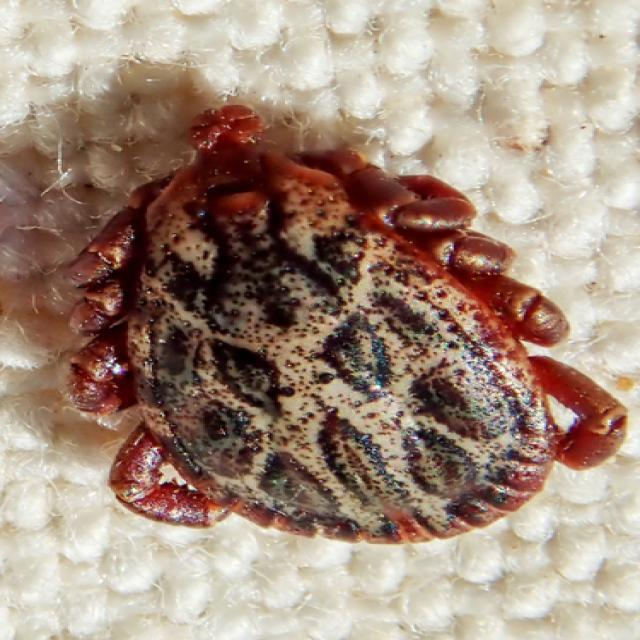Dermacentor Reticulatus-M: (65, 101, 628, 545)
